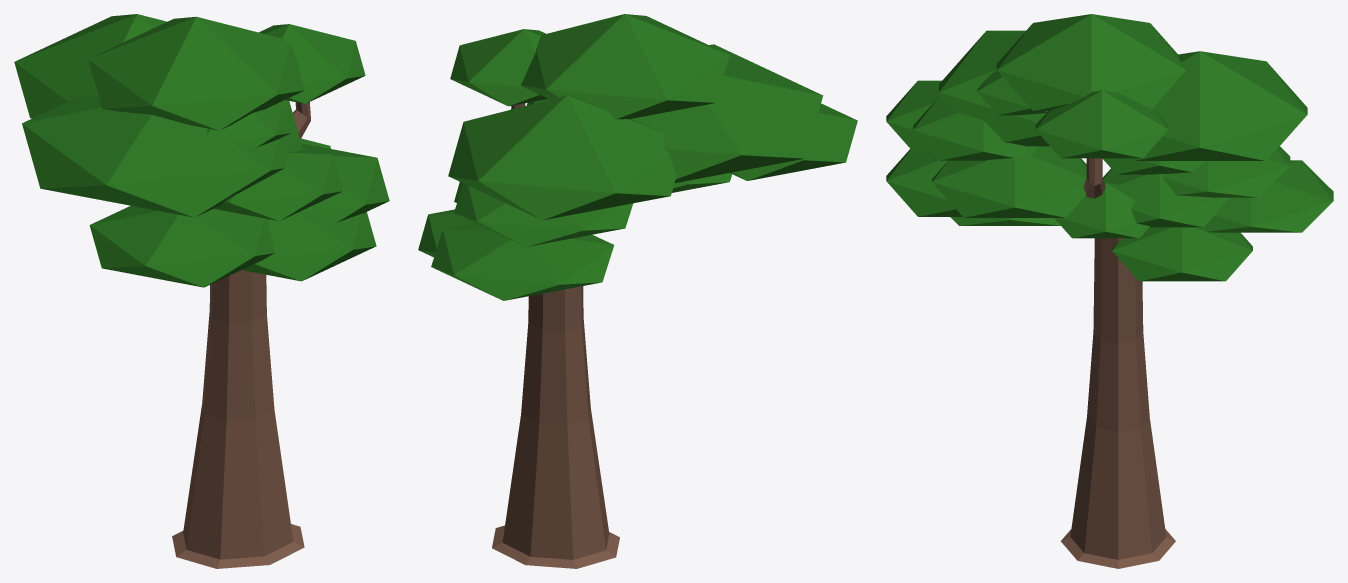
File: árbol1.glb
The picture shows the model from 3 angles, left to right: view 1: azimuth 30°, elevation 25°; view 2: azimuth 150°, elevation 25°; view 3: azimuth 270°, elevation 25°; orthographic projection. The views are drawn at different scales.
Parts seen in each view (by area): view 1: Icosphere.003; view 2: Icosphere.003; view 3: Icosphere.003.
Boxes of the visible parts, box(x1,y1,x2,y2) form: Icosphere.003: box(14, 14, 389, 568); Icosphere.003: box(418, 14, 857, 568); Icosphere.003: box(886, 14, 1333, 568).
Bounding box in the file's own units: 6.46 × 10.08 × 8.13.
